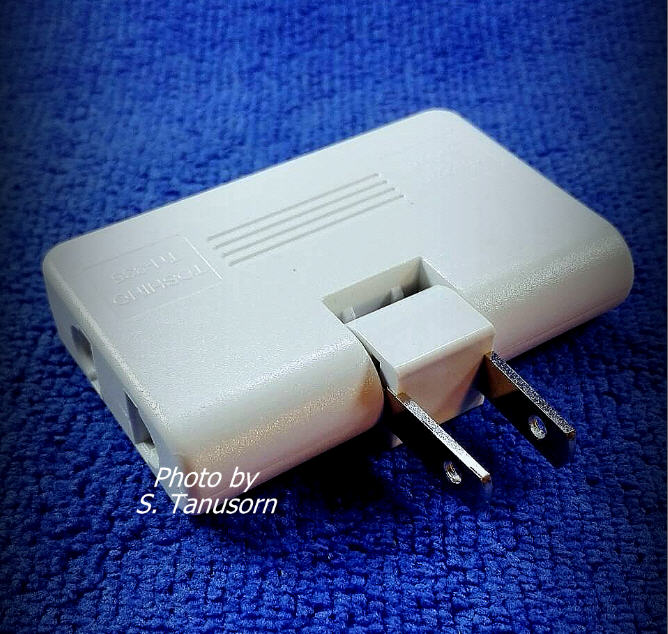Three_eye_plug: (26, 85, 646, 534)
